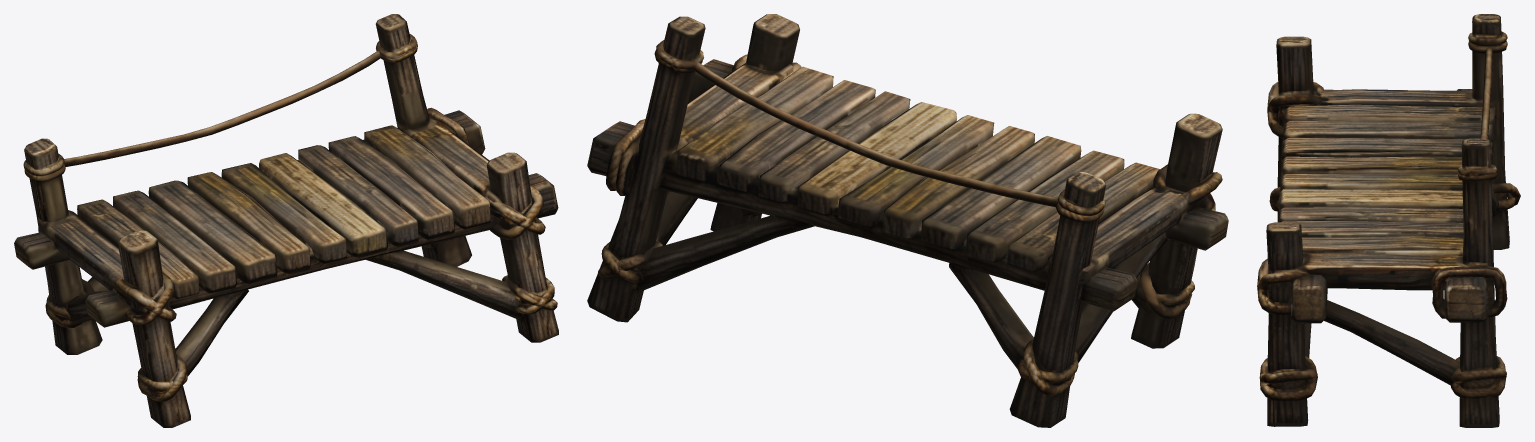
File: act1_kit_v1_walkway.glb
The picture shows the model from 3 angles, left to right: view 1: azimuth 30°, elevation 25°; view 2: azimuth 150°, elevation 25°; view 3: azimuth 270°, elevation 25°; orthographic projection. The views are drawn at different scales.
Parts seen in each view (by area): view 1: act1_kit_v1_walkway; view 2: act1_kit_v1_walkway; view 3: act1_kit_v1_walkway.
Boxes of the visible parts, box(x1,y1,x2,y2) form: act1_kit_v1_walkway: box(14, 14, 558, 427); act1_kit_v1_walkway: box(587, 14, 1228, 427); act1_kit_v1_walkway: box(1257, 14, 1520, 427).
Size of the model in its own units: 1 by 0.5404 by 0.4964.
1 material, 1 textured.
